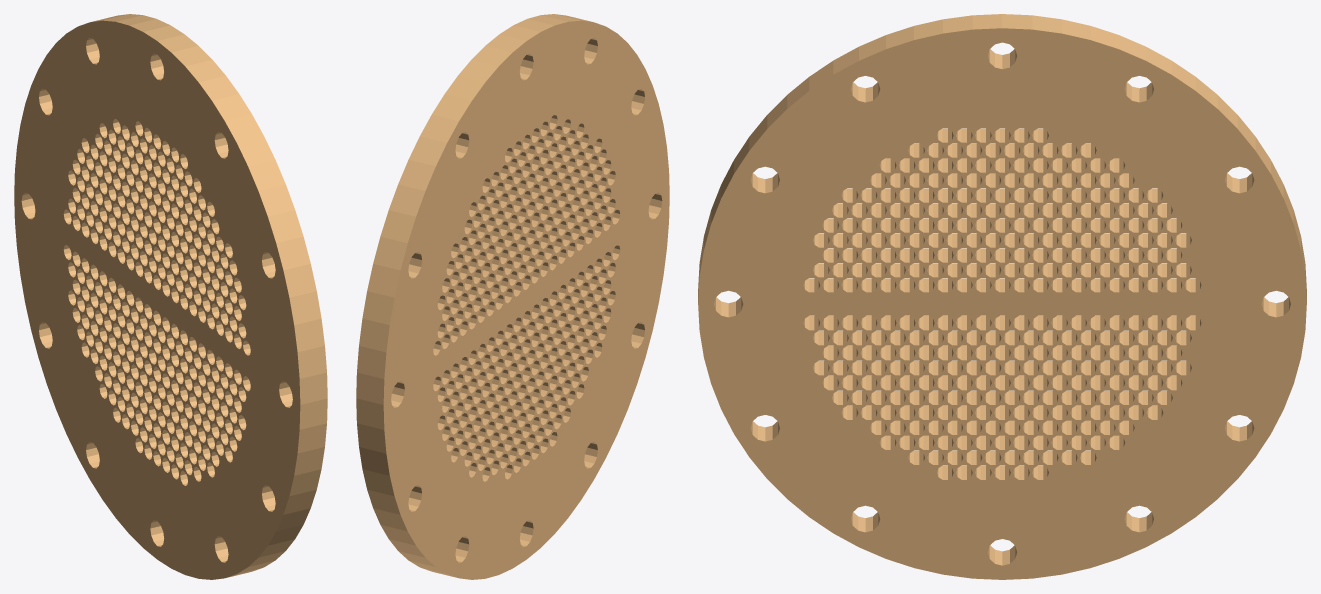
File: 4_Tubesheet_Stationary.glb
The picture shows the model from 3 angles, left to right: view 1: azimuth 30°, elevation 25°; view 2: azimuth 150°, elevation 25°; view 3: azimuth 270°, elevation 25°; orthographic projection. The views are drawn at different scales.
Parts seen in each view (by area): view 1: geometry_0; view 2: geometry_0; view 3: geometry_0.
Part boxes in pixels (x1=…): geometry_0: x1=14, y1=14, x2=327, y2=579; geometry_0: x1=356, y1=14, x2=669, y2=579; geometry_0: x1=698, y1=14, x2=1306, y2=579.
Size of the model in its own units: 0.016 by 0.289 by 0.289.
